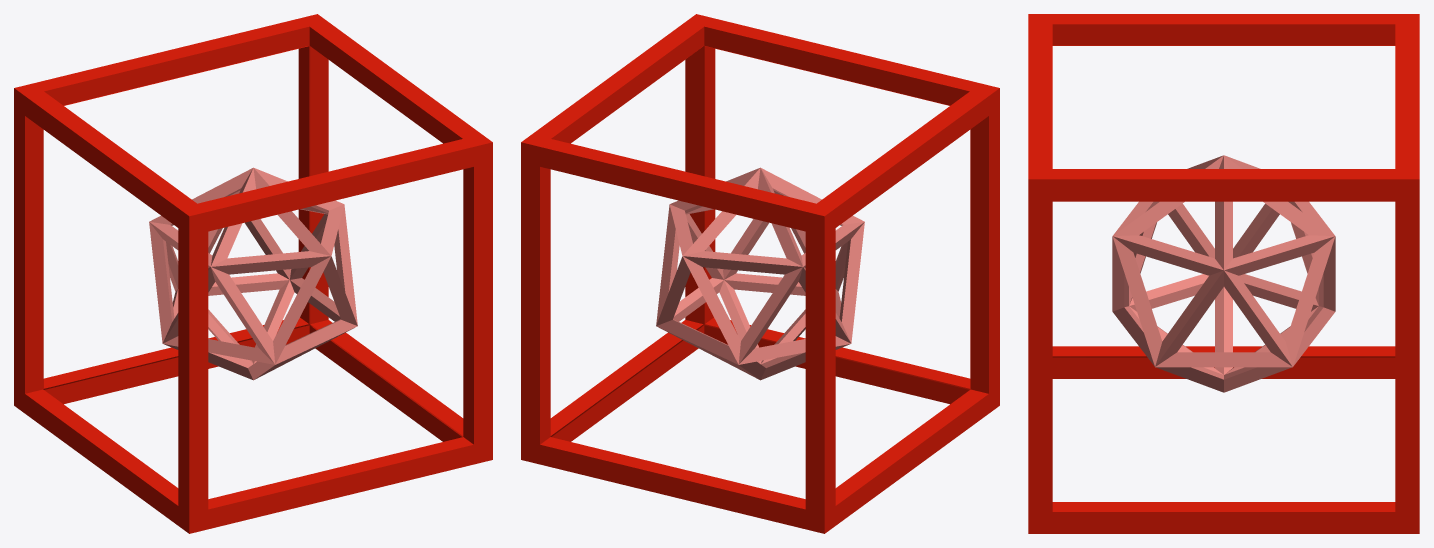
File: RBox.fbx
The picture shows the model from 3 angles, left to right: view 1: azimuth 30°, elevation 25°; view 2: azimuth 150°, elevation 25°; view 3: azimuth 270°, elevation 25°; orthographic projection. The views are drawn at different scales.
Parts seen in each view (by area): view 1: Cube, Icosphere; view 2: Cube, Icosphere; view 3: Cube, Icosphere.
Boxes of the visible parts, x1,y1,x2,y2 form: Cube: [14, 14, 492, 533]; Icosphere: [149, 167, 357, 380]; Cube: [521, 14, 999, 533]; Icosphere: [656, 167, 864, 380]; Cube: [1028, 14, 1419, 533]; Icosphere: [1112, 155, 1335, 392].
Bounding box in the file's own units: 100 × 100 × 100.
